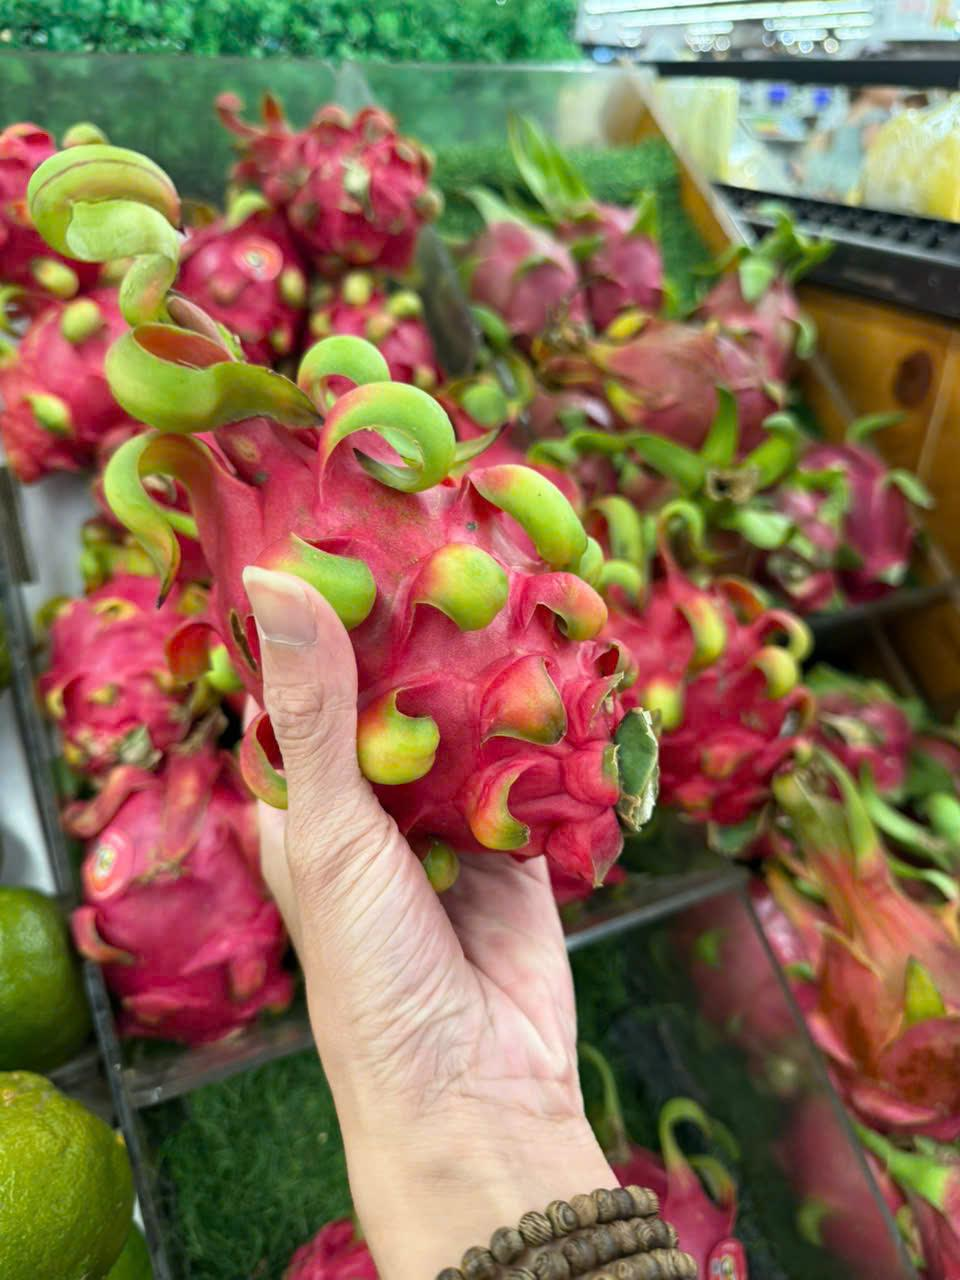dragon fruit: (140, 255, 644, 906), (55, 766, 292, 1066), (638, 556, 804, 850), (40, 535, 244, 764), (208, 70, 434, 276)
